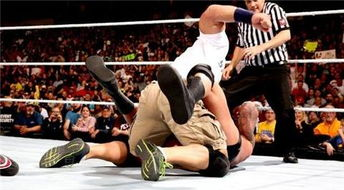10+: (9, 1, 344, 143)
down: (33, 72, 268, 180)
